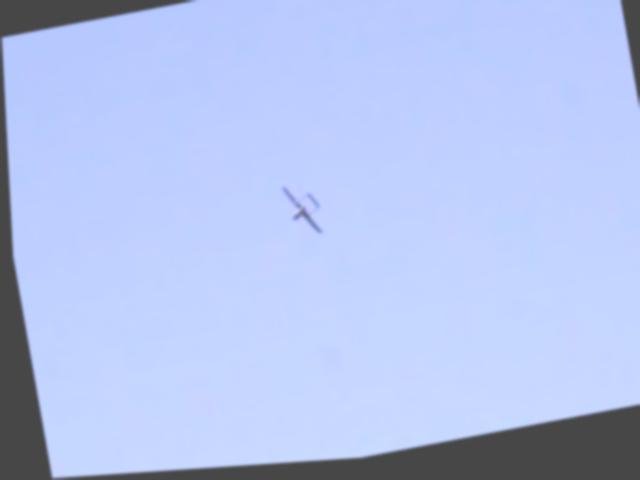uav: (275, 181, 322, 247)
